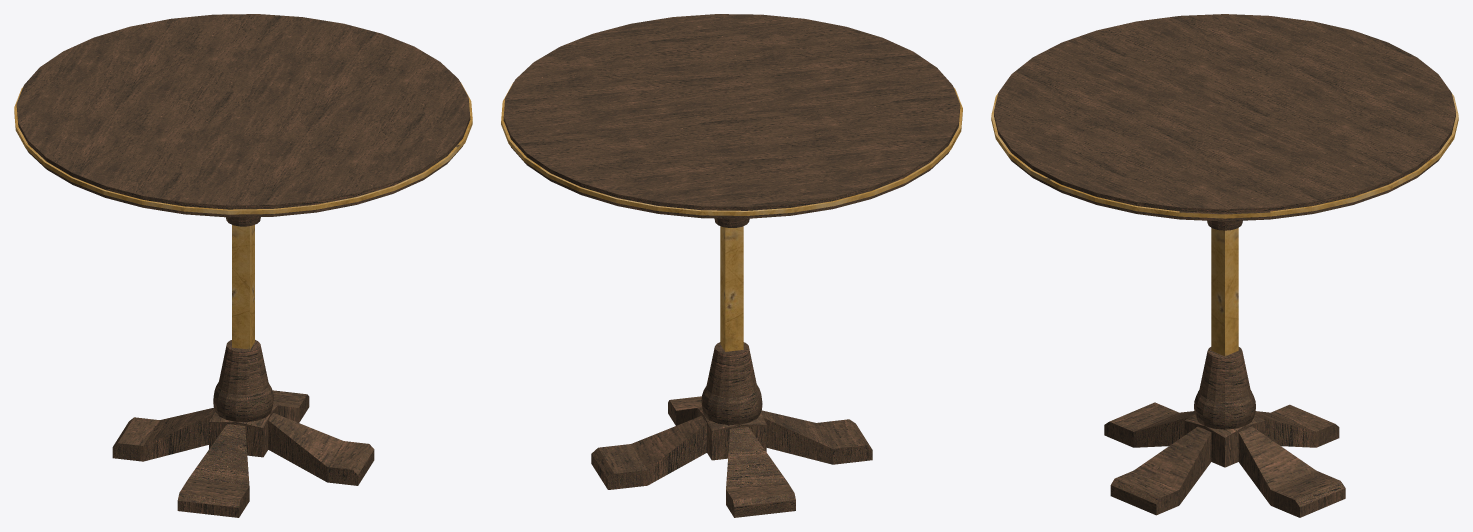
Rendered from table.glb.
3 views of the same model, side by side, from view 1: azimuth 30°, elevation 25°; view 2: azimuth 150°, elevation 25°; view 3: azimuth 270°, elevation 25° (orthographic).
Visible parts, largest first — view 1: book11.036_31, book11.038_33; view 2: book11.036_31, book11.038_33; view 3: book11.036_31, book11.038_33.
Part boxes in pixels (bbox=[...]): book11.036_31: bbox=[16, 14, 470, 517]; book11.038_33: bbox=[14, 83, 472, 349]; book11.036_31: bbox=[503, 14, 960, 517]; book11.038_33: bbox=[501, 83, 962, 351]; book11.036_31: bbox=[994, 14, 1455, 517]; book11.038_33: bbox=[991, 93, 1458, 356].
Bounding box in the file's own units: 2.02 × 1.7 × 2.02.
2 materials, 2 textured.
